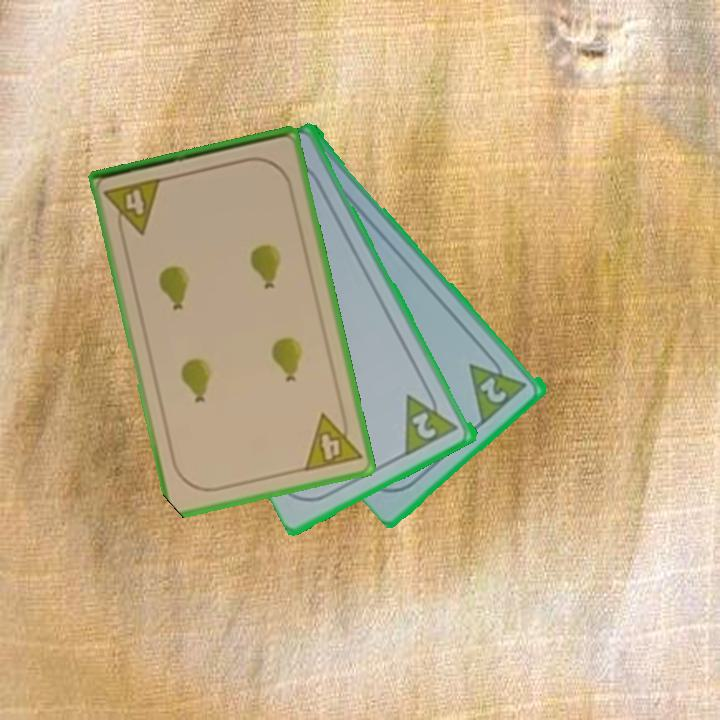2p: (401, 382, 462, 458), (476, 373, 510, 407)
4p: (300, 406, 365, 475), (101, 174, 165, 241)
